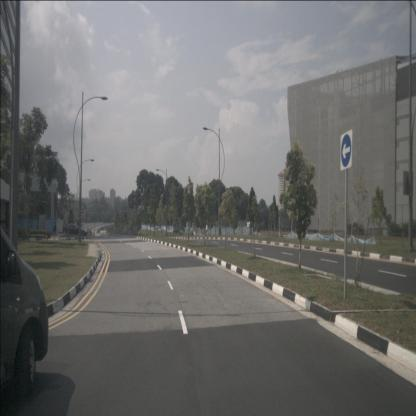human-pedestrian-adult: (53, 221, 58, 241)
vehicle-car: (0, 224, 49, 394), (64, 224, 88, 236)
